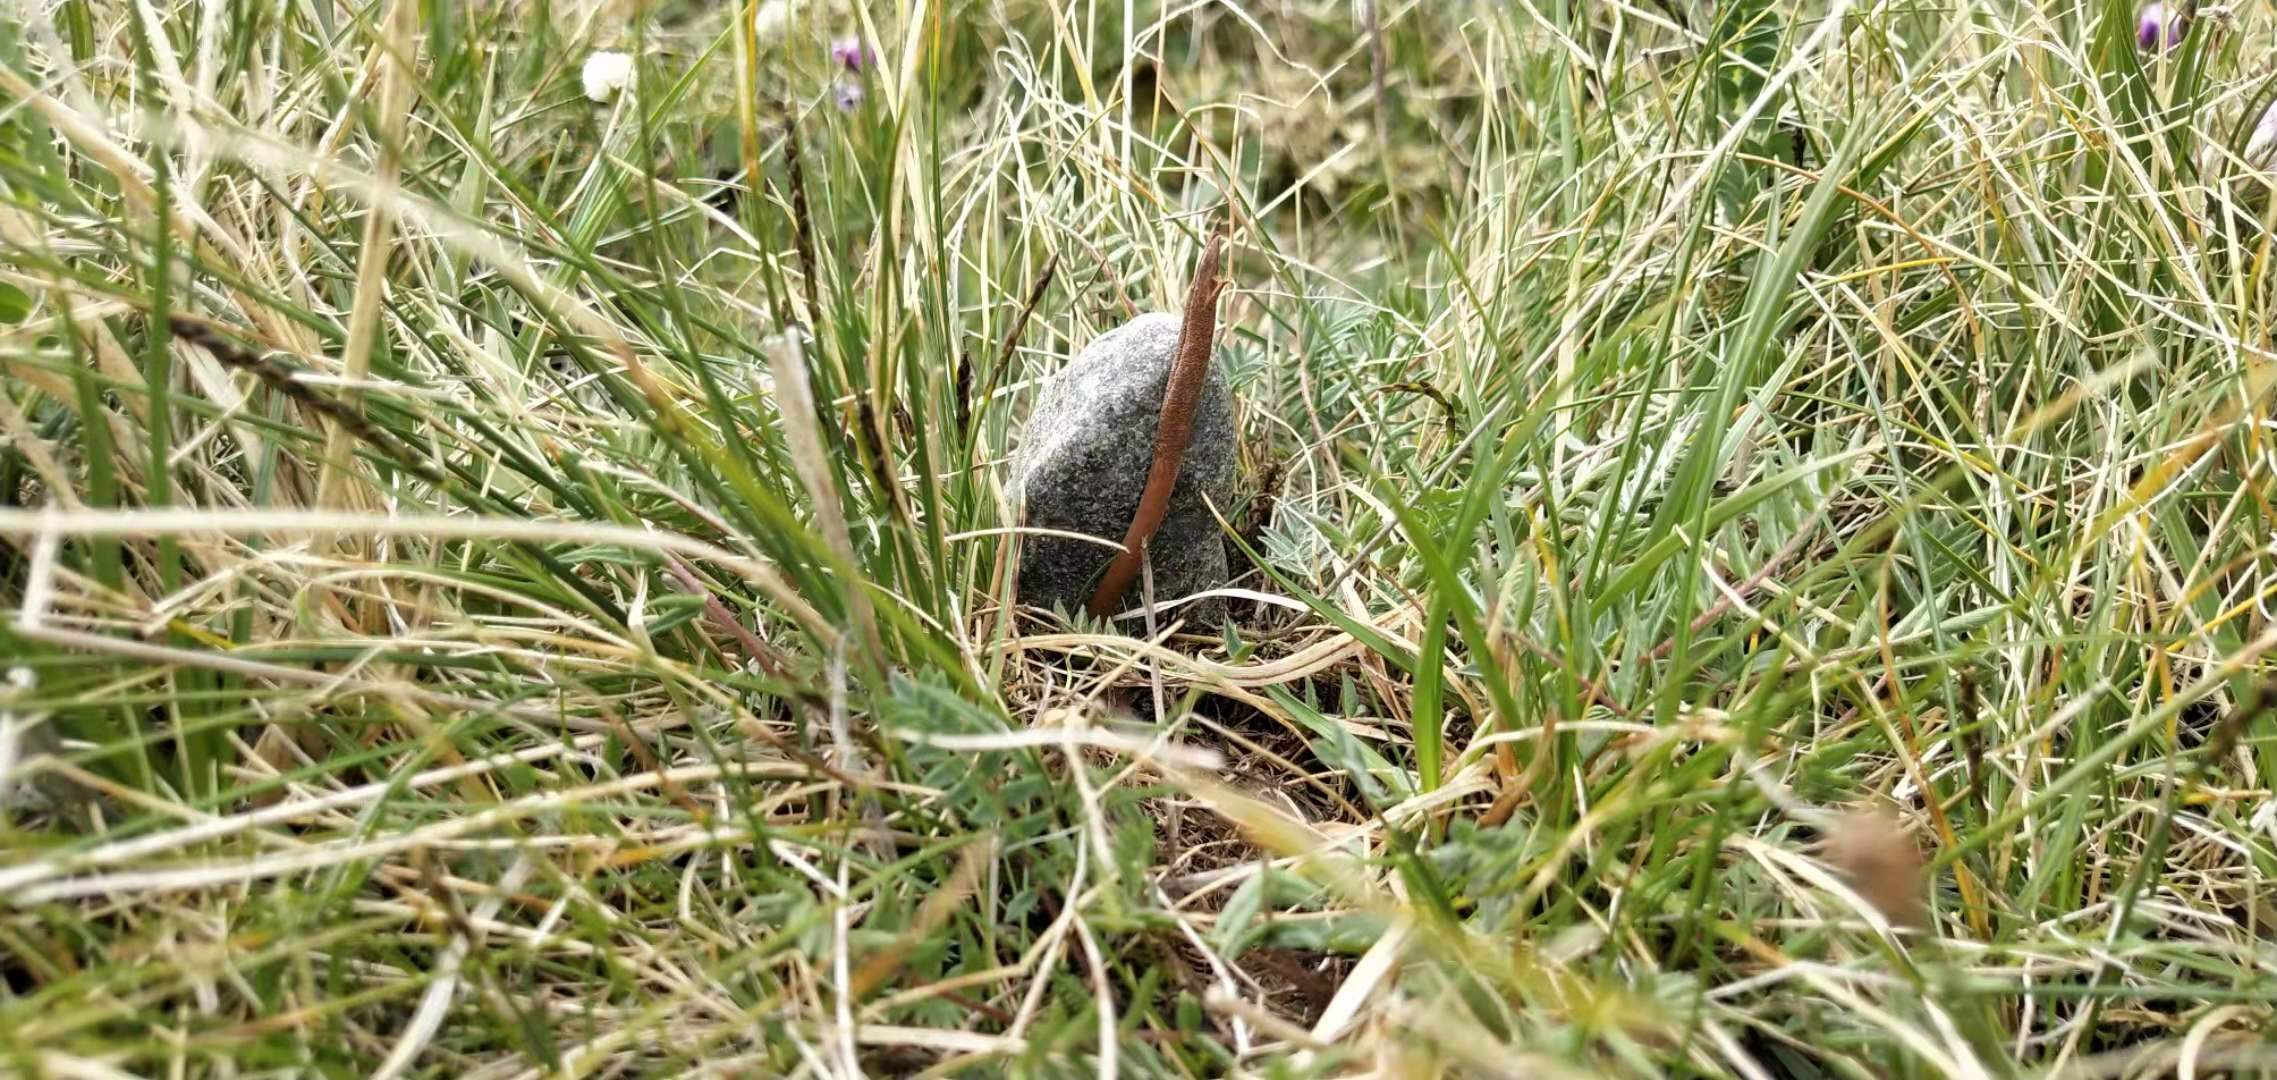cpf: (1088, 229, 1229, 607)
